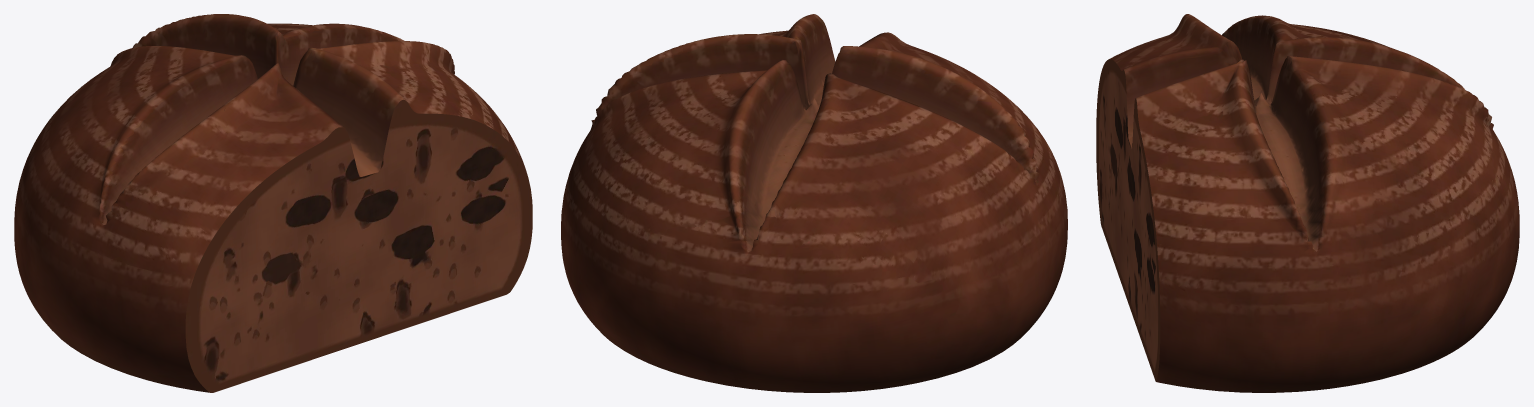
File: campagne--choco-cocoa.glb
The picture shows the model from 3 angles, left to right: view 1: azimuth 30°, elevation 25°; view 2: azimuth 150°, elevation 25°; view 3: azimuth 270°, elevation 25°; orthographic projection. The views are drawn at different scales.
Parts seen in each view (by area): view 1: campagne_choco-cocoa; view 2: campagne_choco-cocoa; view 3: campagne_choco-cocoa.
Boxes of the visible parts, x1,y1,x2,y2 form: campagne_choco-cocoa: [14, 14, 532, 392]; campagne_choco-cocoa: [561, 14, 1067, 392]; campagne_choco-cocoa: [1096, 14, 1519, 392].
Bounding box in the file's own units: 0.9987 × 0.5303 × 0.82.
Materials: 1 (1 with a texture image).
